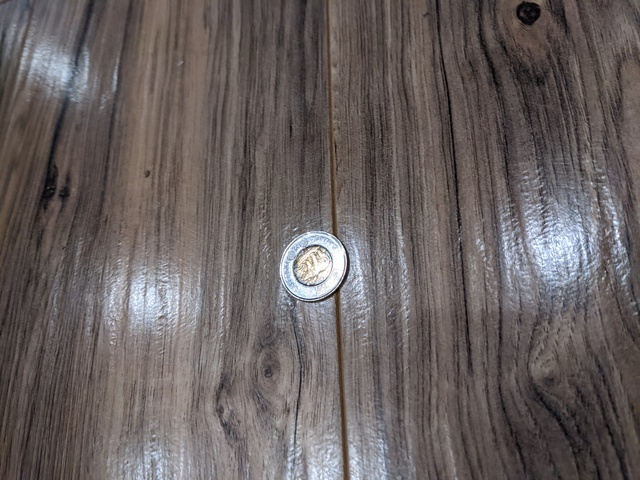twonie: (267, 235, 358, 304)
